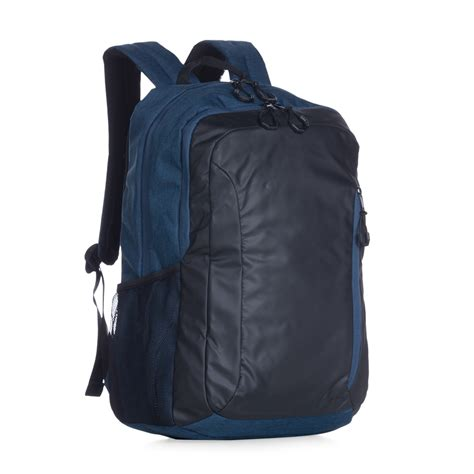nylon: (80, 41, 371, 442)
